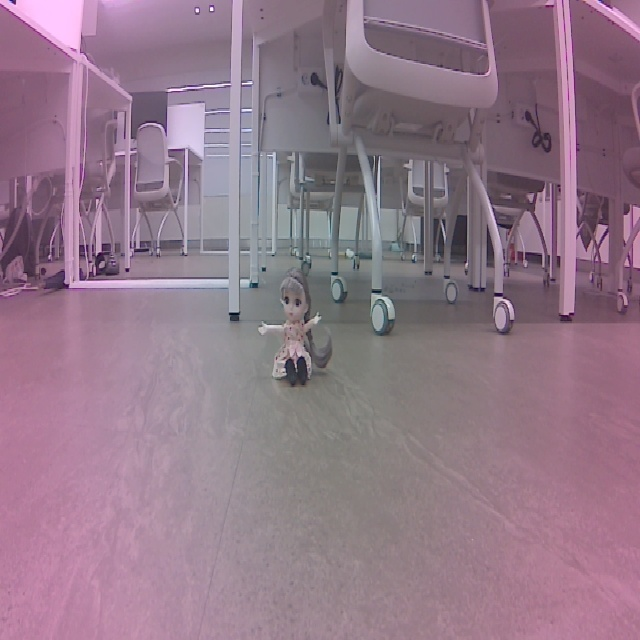장애물: (254, 261, 343, 399)
